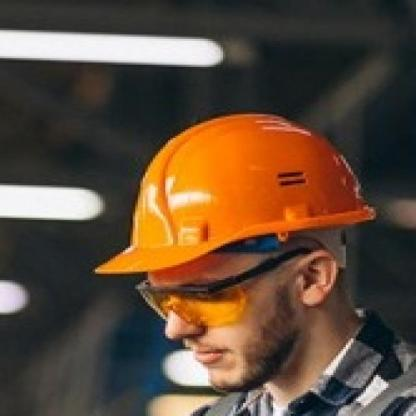capacete: (91, 103, 385, 272)
oculos: (123, 276, 261, 332)
